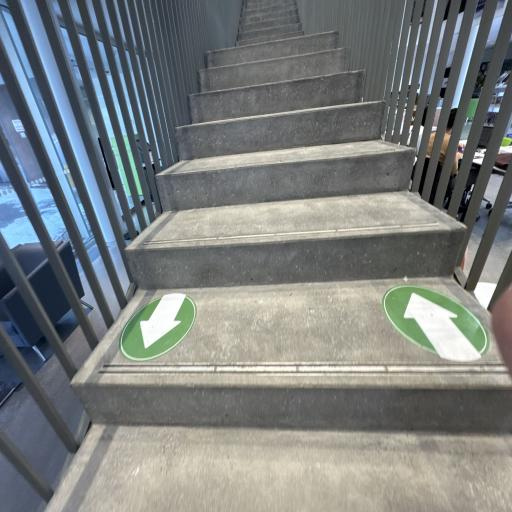Stairs: (47, 0, 512, 512), (72, 251, 512, 509), (46, 425, 512, 512), (126, 191, 465, 289), (156, 140, 414, 211), (175, 102, 384, 160), (198, 48, 349, 111), (188, 71, 365, 124), (205, 32, 338, 68), (238, 22, 302, 42), (240, 8, 298, 27), (236, 31, 304, 46)
